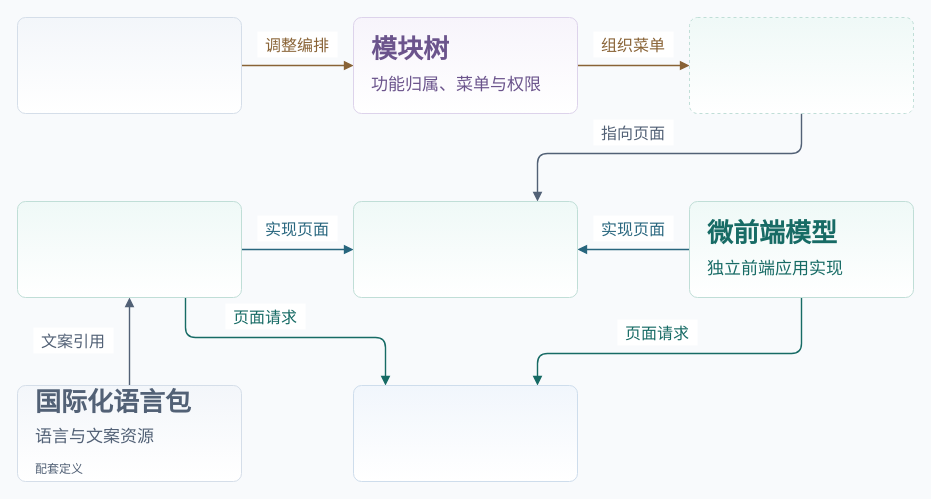
The diagram is 931 pixels wide and 499 high, and some of its shapes have lost their labels. Here are the shapes that lost their labels. From the top down, the box of each, then its label:
(16, 16, 242, 114): 模块树 Diff 记录模块编排差异 配套定义
(688, 16, 914, 114): 菜单模型 运行态导航入口
(16, 200, 242, 298): UI Schema 页面内容、交互与组件
(352, 200, 578, 298): UI 模型 页面入口与实现方式
(352, 384, 578, 482): WebAPI 模型 HTTP 契约与处理绑定
